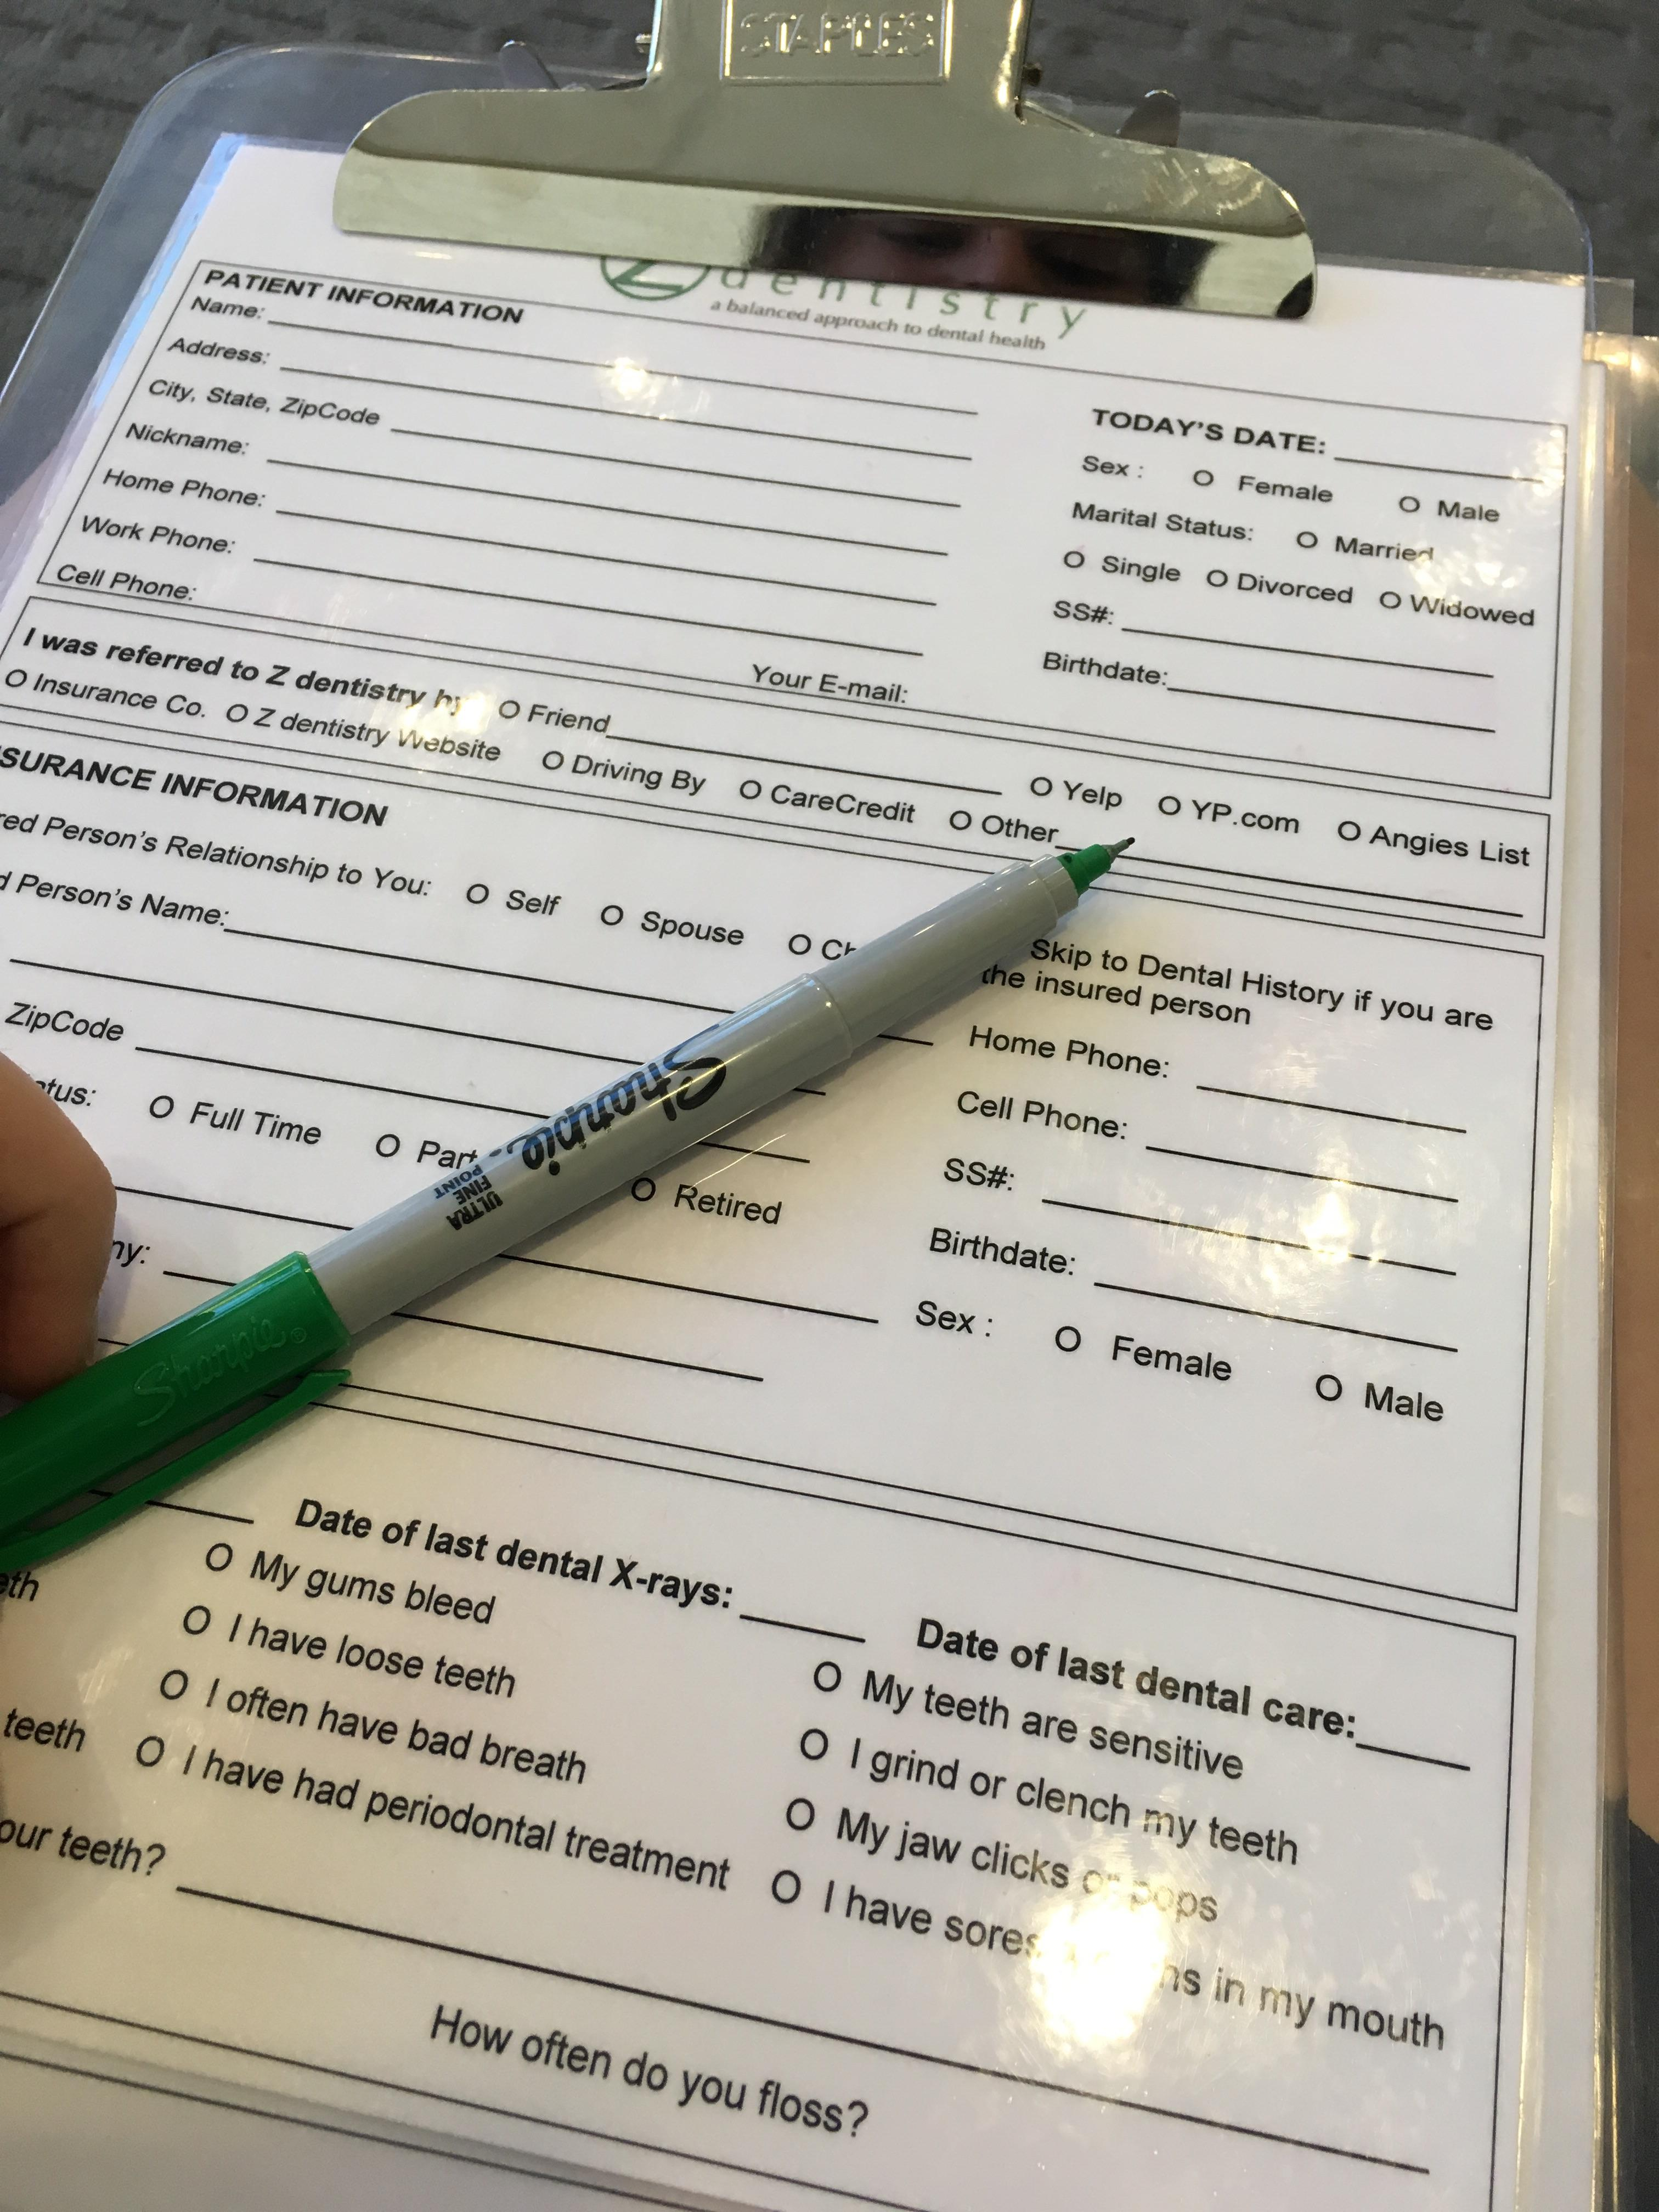paper: (0, 57, 1659, 2212)
